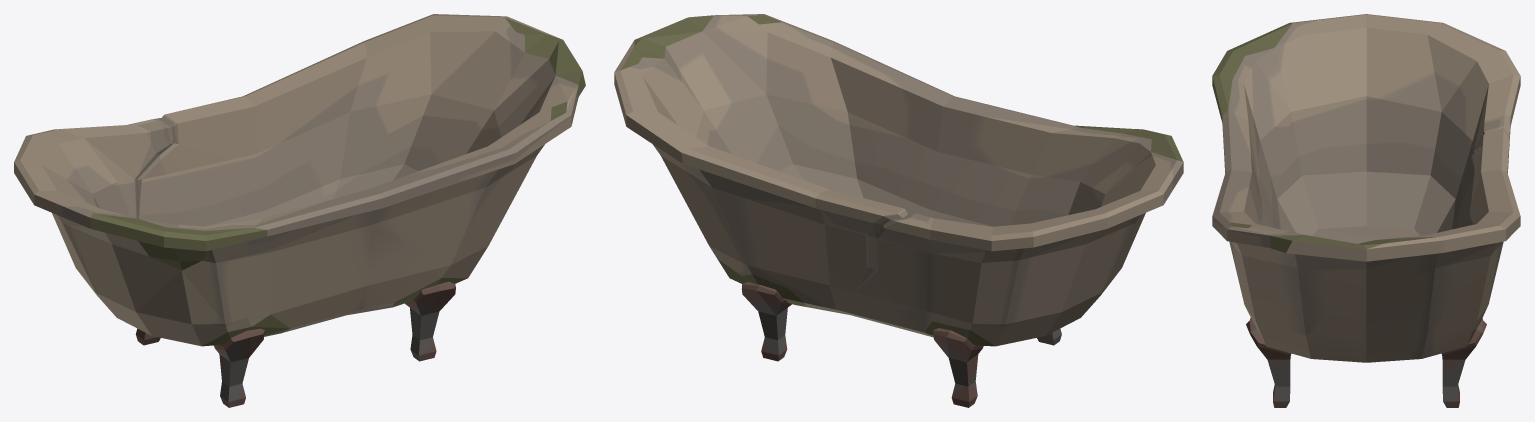
File: SM_Prop_Bath_02.obj
The picture shows the model from 3 angles, left to right: view 1: azimuth 30°, elevation 25°; view 2: azimuth 150°, elevation 25°; view 3: azimuth 270°, elevation 25°; orthographic projection.
Parts seen in each view (by area): view 1: SM_Prop_Bath_02_0; view 2: SM_Prop_Bath_02_0; view 3: SM_Prop_Bath_02_0.
Boxes of the visible parts, x1,y1,x2,y2 form: SM_Prop_Bath_02_0: (14, 14, 585, 407); SM_Prop_Bath_02_0: (614, 14, 1183, 407); SM_Prop_Bath_02_0: (1212, 14, 1520, 407).
Bounding box in the file's own units: 2.03 × 0.893 × 1.01.
1 material, 1 textured.
